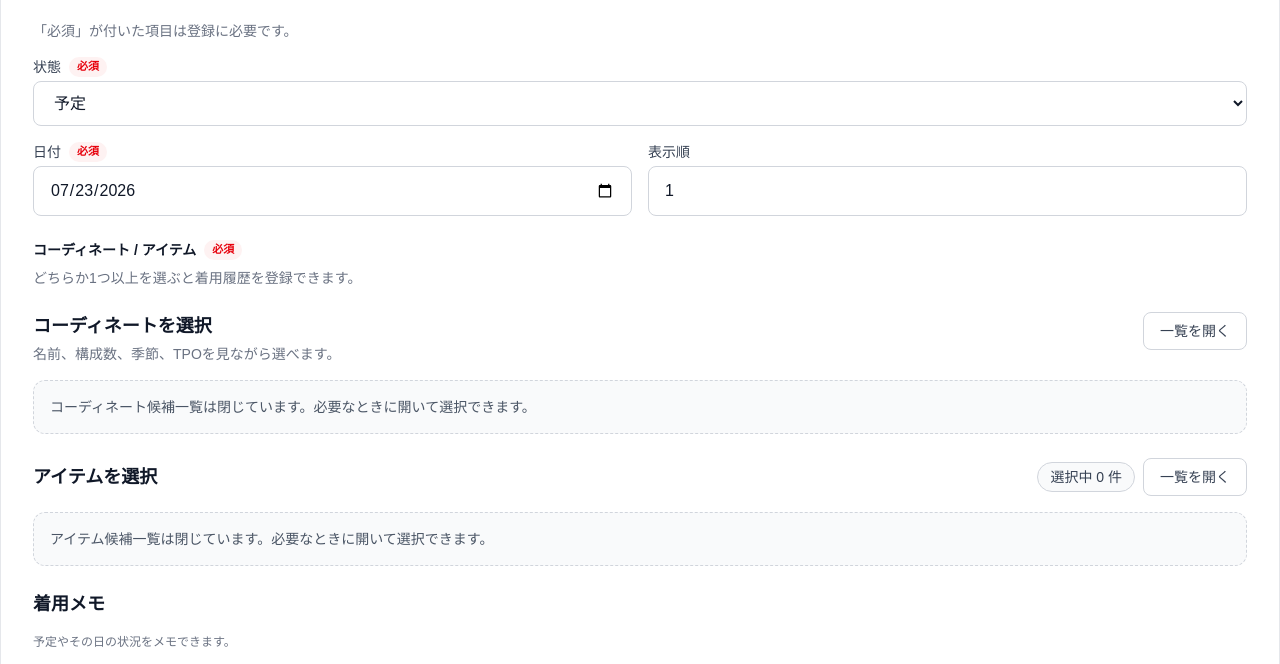
it: WearLogForm › item 1件選択時の関連コーディネート候補が空の場合は空状態を表示する
This screenshot has width=1280, height=664.
Click the button with test id "wear-log-item-list-toggle": (1195, 477) [1143, 458, 1247, 496]
(page scrolled)
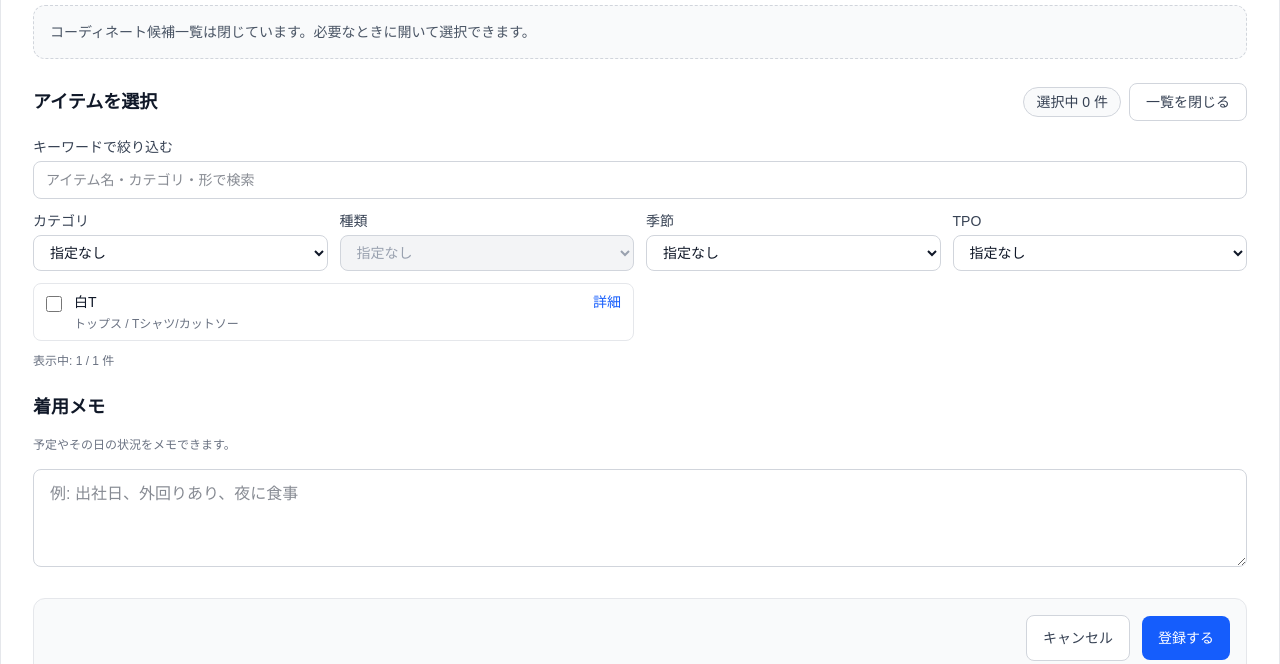
Click the checkbox with id "wear-log-item-1": (54, 304) [46, 296, 62, 312]
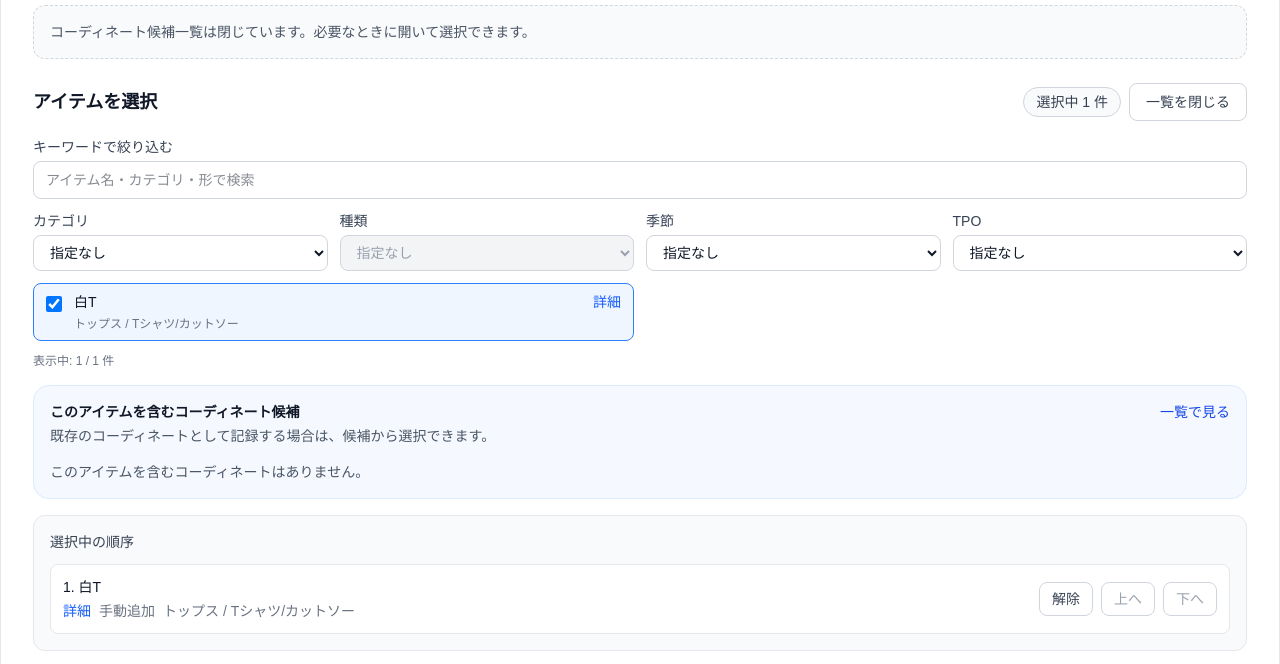
Expected: the text "このアイテムを含むコーディネートはありません。" is shown, [50, 464, 369, 480]
